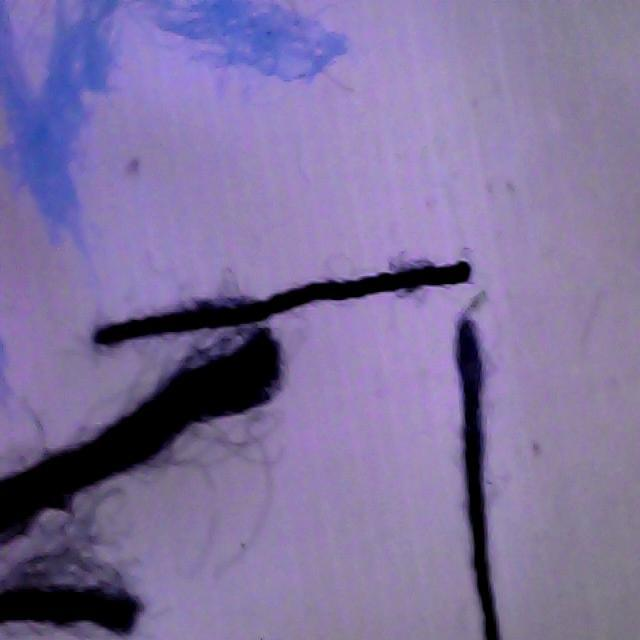fibers: (0, 323, 299, 542), (91, 249, 475, 354), (455, 314, 501, 640), (0, 550, 143, 632)
